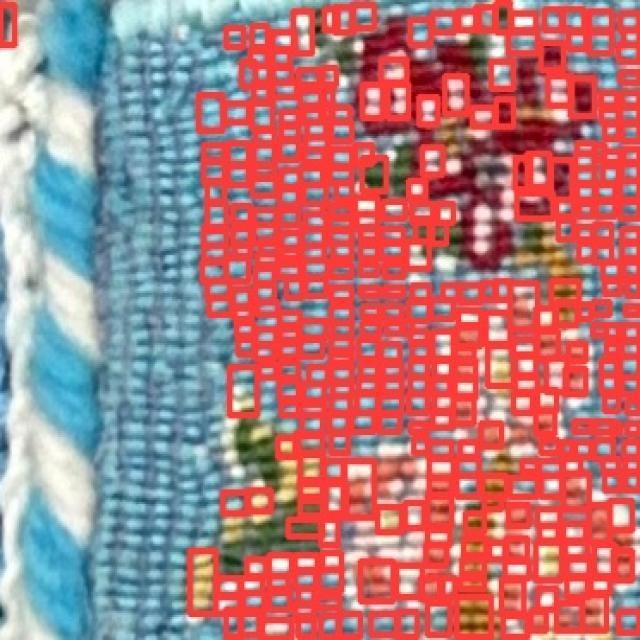Knot: (189, 552, 215, 615), (361, 560, 394, 602), (458, 598, 492, 636), (509, 284, 537, 330), (517, 192, 553, 220), (562, 474, 588, 510), (536, 544, 562, 580), (570, 77, 594, 115), (396, 566, 424, 598), (582, 595, 606, 631), (551, 161, 572, 201), (446, 75, 468, 113), (485, 314, 511, 346), (593, 544, 616, 580), (362, 158, 386, 192), (294, 12, 313, 54), (527, 154, 550, 188), (501, 580, 524, 614), (589, 506, 610, 542), (427, 603, 450, 635), (300, 452, 323, 484), (547, 76, 571, 106), (388, 84, 409, 118), (428, 498, 451, 528), (556, 604, 582, 630), (552, 280, 578, 306), (406, 242, 430, 270), (612, 551, 634, 581), (508, 32, 538, 54), (295, 433, 323, 456), (422, 146, 443, 176), (326, 484, 347, 514), (288, 518, 323, 536), (547, 358, 566, 391), (378, 508, 402, 534), (490, 62, 513, 89), (541, 43, 564, 70), (536, 330, 558, 358), (202, 159, 226, 184), (610, 502, 632, 529), (363, 86, 382, 117), (252, 102, 273, 130), (381, 60, 407, 82), (411, 19, 432, 46), (454, 396, 474, 424), (504, 615, 528, 638), (226, 258, 249, 282), (456, 326, 482, 347), (511, 477, 537, 498), (370, 614, 396, 635), (496, 98, 514, 128), (263, 619, 291, 638), (337, 615, 360, 638), (420, 578, 444, 600), (352, 6, 374, 30), (565, 368, 586, 393), (432, 332, 452, 358), (515, 158, 531, 190), (589, 32, 612, 54), (482, 476, 506, 497), (404, 503, 424, 528), (419, 98, 438, 124), (208, 204, 226, 231), (248, 490, 270, 512), (319, 569, 342, 590), (301, 415, 324, 436), (540, 475, 561, 498), (566, 558, 590, 578), (268, 556, 292, 576), (254, 144, 274, 168), (223, 494, 247, 514), (253, 176, 277, 196), (224, 104, 248, 124), (511, 12, 535, 32), (202, 262, 226, 282), (476, 8, 496, 32), (398, 613, 417, 638), (504, 560, 530, 578), (458, 476, 480, 497), (619, 356, 640, 378), (430, 300, 454, 319), (240, 610, 259, 634), (301, 321, 327, 338), (412, 203, 433, 224), (507, 538, 527, 560), (480, 424, 500, 446), (228, 144, 248, 166), (536, 411, 555, 434), (294, 570, 317, 589), (617, 612, 640, 631), (252, 224, 276, 242), (336, 8, 354, 32), (304, 260, 328, 278), (432, 14, 456, 32), (322, 520, 339, 545), (508, 505, 528, 526), (426, 545, 446, 566), (515, 356, 536, 376), (331, 122, 352, 142), (408, 301, 428, 322), (408, 393, 428, 414), (496, 3, 510, 33), (204, 228, 226, 247), (352, 413, 374, 432), (304, 185, 326, 204), (566, 577, 588, 596), (355, 198, 378, 216), (472, 108, 495, 126), (589, 12, 612, 30), (558, 302, 576, 325), (273, 32, 296, 50), (454, 380, 477, 398), (301, 229, 325, 246), (202, 144, 226, 161), (216, 597, 240, 614), (294, 555, 318, 572), (208, 298, 232, 315), (430, 460, 454, 477), (564, 10, 584, 30), (226, 611, 242, 636), (321, 616, 340, 637), (356, 394, 377, 413), (254, 286, 276, 304), (464, 538, 486, 556), (242, 60, 256, 88), (429, 479, 452, 496), (563, 524, 586, 541), (300, 480, 323, 497), (329, 167, 352, 184), (207, 282, 230, 299), (427, 529, 450, 546), (382, 201, 406, 217), (301, 168, 325, 184), (512, 340, 536, 356), (278, 312, 302, 328), (328, 216, 352, 232), (278, 437, 298, 456), (331, 396, 350, 416), (330, 363, 350, 382), (244, 594, 264, 613), (324, 461, 344, 480), (358, 340, 378, 359), (228, 167, 248, 186), (538, 390, 556, 411), (516, 376, 537, 394), (331, 306, 352, 324), (566, 542, 587, 560), (218, 578, 240, 595), (538, 509, 560, 526), (618, 46, 640, 63), (254, 209, 276, 226), (329, 150, 352, 166), (300, 500, 323, 516), (301, 340, 324, 356), (620, 181, 639, 200), (460, 284, 480, 302), (466, 512, 484, 532), (454, 360, 474, 378), (458, 12, 478, 30), (252, 164, 276, 179), (538, 590, 558, 608), (437, 203, 454, 224), (305, 279, 326, 296), (302, 384, 324, 400), (416, 220, 432, 242), (204, 244, 226, 260), (430, 222, 446, 244), (540, 460, 563, 475), (329, 229, 352, 244), (434, 394, 452, 413), (330, 413, 348, 432), (576, 184, 594, 203), (514, 394, 532, 413), (408, 180, 426, 199), (594, 441, 614, 458), (380, 395, 400, 412), (280, 142, 300, 159), (537, 308, 554, 328), (432, 412, 452, 429), (380, 414, 400, 431), (322, 553, 342, 570), (252, 26, 268, 47), (298, 616, 314, 637), (272, 82, 296, 96), (302, 246, 326, 260), (294, 604, 315, 620), (382, 228, 404, 243), (280, 382, 298, 400), (308, 367, 327, 384), (623, 258, 640, 277), (381, 344, 400, 361), (595, 184, 614, 201), (227, 27, 244, 46), (270, 593, 289, 610), (591, 576, 610, 593), (381, 244, 404, 258), (546, 10, 562, 30), (576, 154, 596, 170), (330, 338, 350, 354), (557, 220, 573, 240), (256, 330, 276, 346), (256, 268, 276, 284), (356, 146, 372, 166), (301, 91, 322, 106), (306, 215, 327, 230), (331, 351, 352, 366), (257, 301, 278, 316), (460, 577, 484, 590), (462, 560, 484, 574), (278, 264, 300, 278), (324, 8, 338, 30), (622, 244, 639, 262), (623, 376, 640, 394), (280, 189, 298, 206), (603, 262, 620, 280), (233, 290, 250, 308), (246, 560, 265, 576), (621, 14, 640, 30), (621, 202, 640, 218), (595, 201, 614, 217), (621, 166, 640, 182), (332, 433, 348, 452), (286, 278, 302, 297), (208, 182, 224, 201), (494, 281, 510, 300), (430, 441, 450, 456), (458, 460, 478, 475), (242, 577, 262, 592), (305, 137, 328, 150), (356, 215, 379, 228), (331, 204, 352, 218), (331, 286, 352, 300), (573, 441, 590, 458), (568, 344, 585, 361), (412, 342, 429, 359), (273, 50, 290, 67), (233, 206, 250, 223), (530, 612, 546, 630), (282, 171, 300, 187), (298, 588, 314, 606), (434, 360, 450, 378), (412, 360, 428, 378), (282, 234, 300, 250), (556, 201, 574, 217), (600, 376, 618, 392), (410, 378, 428, 394), (254, 86, 270, 104), (280, 362, 298, 378), (278, 211, 300, 224), (540, 526, 559, 541), (333, 323, 352, 338), (455, 348, 474, 363), (330, 264, 350, 278), (384, 264, 404, 278), (301, 404, 324, 416), (233, 228, 250, 244), (603, 166, 619, 183), (622, 125, 639, 141), (576, 169, 594, 184), (236, 322, 254, 337), (384, 305, 402, 320), (300, 70, 318, 85), (280, 326, 298, 341), (460, 442, 478, 457), (308, 124, 327, 138), (383, 380, 402, 394), (332, 108, 351, 122), (383, 364, 402, 378), (621, 108, 640, 122), (440, 578, 454, 597), (458, 312, 480, 324), (576, 142, 596, 155), (578, 201, 594, 217), (578, 244, 594, 260), (336, 184, 352, 200), (624, 29, 640, 45), (596, 246, 612, 262), (570, 34, 586, 50), (606, 474, 622, 490), (602, 360, 618, 376), (234, 242, 250, 258), (623, 342, 640, 357), (317, 596, 340, 607), (360, 364, 378, 378), (360, 226, 378, 240), (260, 240, 278, 254), (600, 92, 618, 106), (490, 542, 504, 560), (594, 226, 612, 240), (269, 577, 288, 590), (621, 93, 640, 106), (621, 71, 640, 84), (358, 380, 378, 392), (256, 64, 268, 84), (604, 280, 620, 295), (304, 150, 324, 162), (254, 132, 274, 144), (360, 286, 380, 298), (274, 68, 290, 83), (564, 458, 580, 473), (482, 282, 496, 299), (334, 244, 351, 258), (412, 286, 429, 300), (322, 68, 336, 85), (259, 364, 276, 378), (432, 380, 449, 394), (256, 345, 274, 358), (280, 344, 298, 357), (257, 254, 278, 265), (333, 384, 352, 396), (251, 52, 267, 66), (626, 474, 640, 490), (578, 226, 594, 240), (282, 110, 298, 124), (624, 325, 640, 339), (443, 286, 459, 300), (624, 442, 640, 456), (604, 124, 618, 140), (238, 340, 254, 354), (282, 402, 298, 416), (236, 306, 253, 319), (541, 440, 558, 453), (594, 422, 614, 433), (360, 246, 378, 258), (360, 264, 378, 276), (304, 110, 322, 122), (600, 110, 618, 122), (282, 126, 300, 138), (410, 332, 428, 344), (484, 498, 502, 510), (604, 396, 618, 411), (626, 281, 640, 296), (362, 305, 378, 318), (363, 323, 379, 336), (522, 460, 538, 473), (624, 148, 640, 161), (386, 322, 402, 335), (622, 228, 639, 240), (282, 248, 298, 260), (604, 150, 620, 162), (386, 286, 402, 298), (574, 421, 591, 432), (626, 459, 640, 472), (594, 303, 610, 314), (594, 146, 605, 161), (603, 460, 619, 470), (414, 439, 426, 452), (562, 442, 574, 455), (580, 303, 590, 318), (410, 423, 426, 432), (592, 326, 606, 336), (626, 424, 640, 434), (626, 402, 640, 412), (324, 89, 332, 106), (322, 166, 330, 183), (606, 326, 618, 337), (322, 202, 330, 218), (626, 305, 640, 314), (606, 344, 618, 354), (325, 150, 332, 164), (404, 321, 411, 334), (612, 422, 620, 433), (325, 108, 330, 122)
